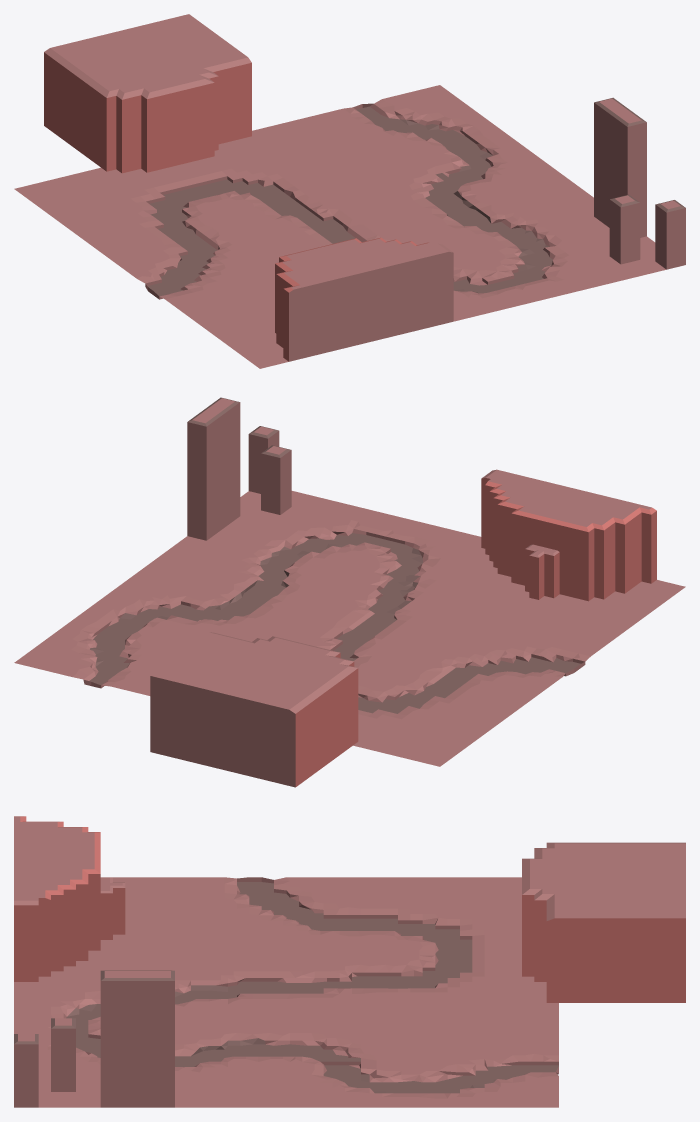
Rendered from TerrainV1.fbx.
3 views of the same model, one above another, from view 1: azimuth 30°, elevation 25°; view 2: azimuth 150°, elevation 25°; view 3: azimuth 270°, elevation 25° (orthographic). The views are drawn at different scales.
Visible parts, largest first — view 1: Plane; view 2: Plane; view 3: Plane.
Part boxes in pixels (x1,y1,x2,y2): Plane: (14,14,685,368); Plane: (14,397,685,787); Plane: (14,816,685,1107).
Bounding box in the file's own units: 3097 × 2512 × 890.
